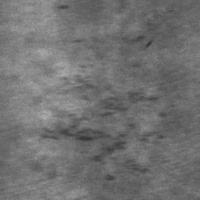rolled-in_scale: (41, 76, 161, 182), (70, 22, 154, 70)
